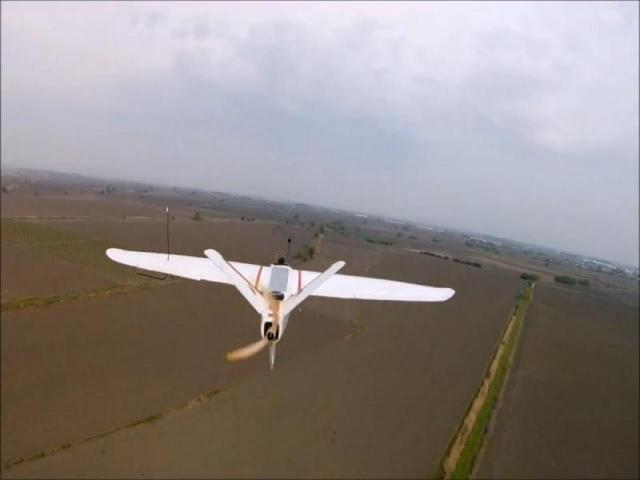hedef: (100, 208, 462, 384)
